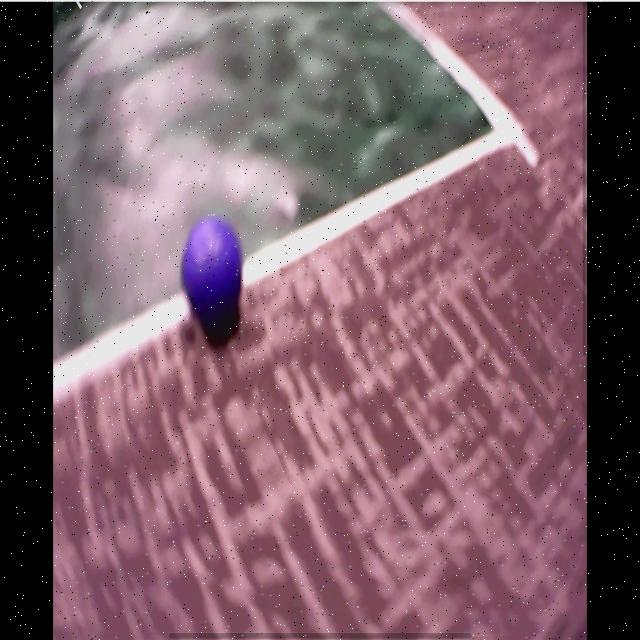ball: (183, 219, 243, 317)
